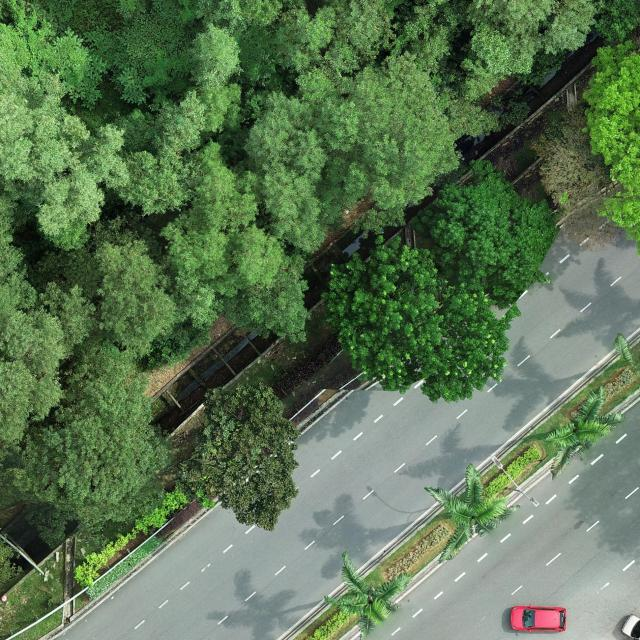Tree: (4, 337, 176, 550), (0, 67, 211, 234), (319, 234, 522, 405), (158, 138, 310, 344), (323, 49, 465, 209), (428, 158, 559, 310), (192, 379, 302, 532), (244, 89, 342, 254), (529, 104, 622, 252), (581, 39, 640, 261), (32, 212, 153, 302), (424, 462, 522, 563), (96, 239, 178, 358), (321, 551, 413, 640), (544, 386, 626, 482), (187, 26, 242, 90), (611, 332, 640, 415), (197, 84, 245, 134), (593, 0, 640, 45), (515, 48, 569, 87), (349, 206, 407, 239), (490, 88, 530, 130)
